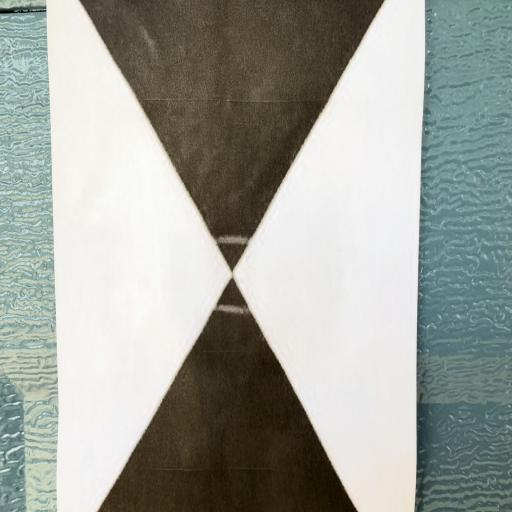target: (46, 0, 423, 511)
